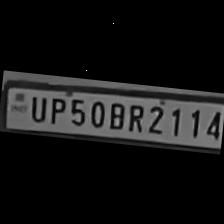0: (86, 95, 108, 128)
1: (164, 103, 185, 136), (182, 104, 202, 138)
2: (144, 100, 167, 134)
4: (202, 105, 223, 140)
5: (64, 92, 88, 125)
B: (106, 99, 127, 130)
P: (44, 92, 68, 124)
R: (124, 99, 146, 132)
U: (26, 90, 48, 122)
